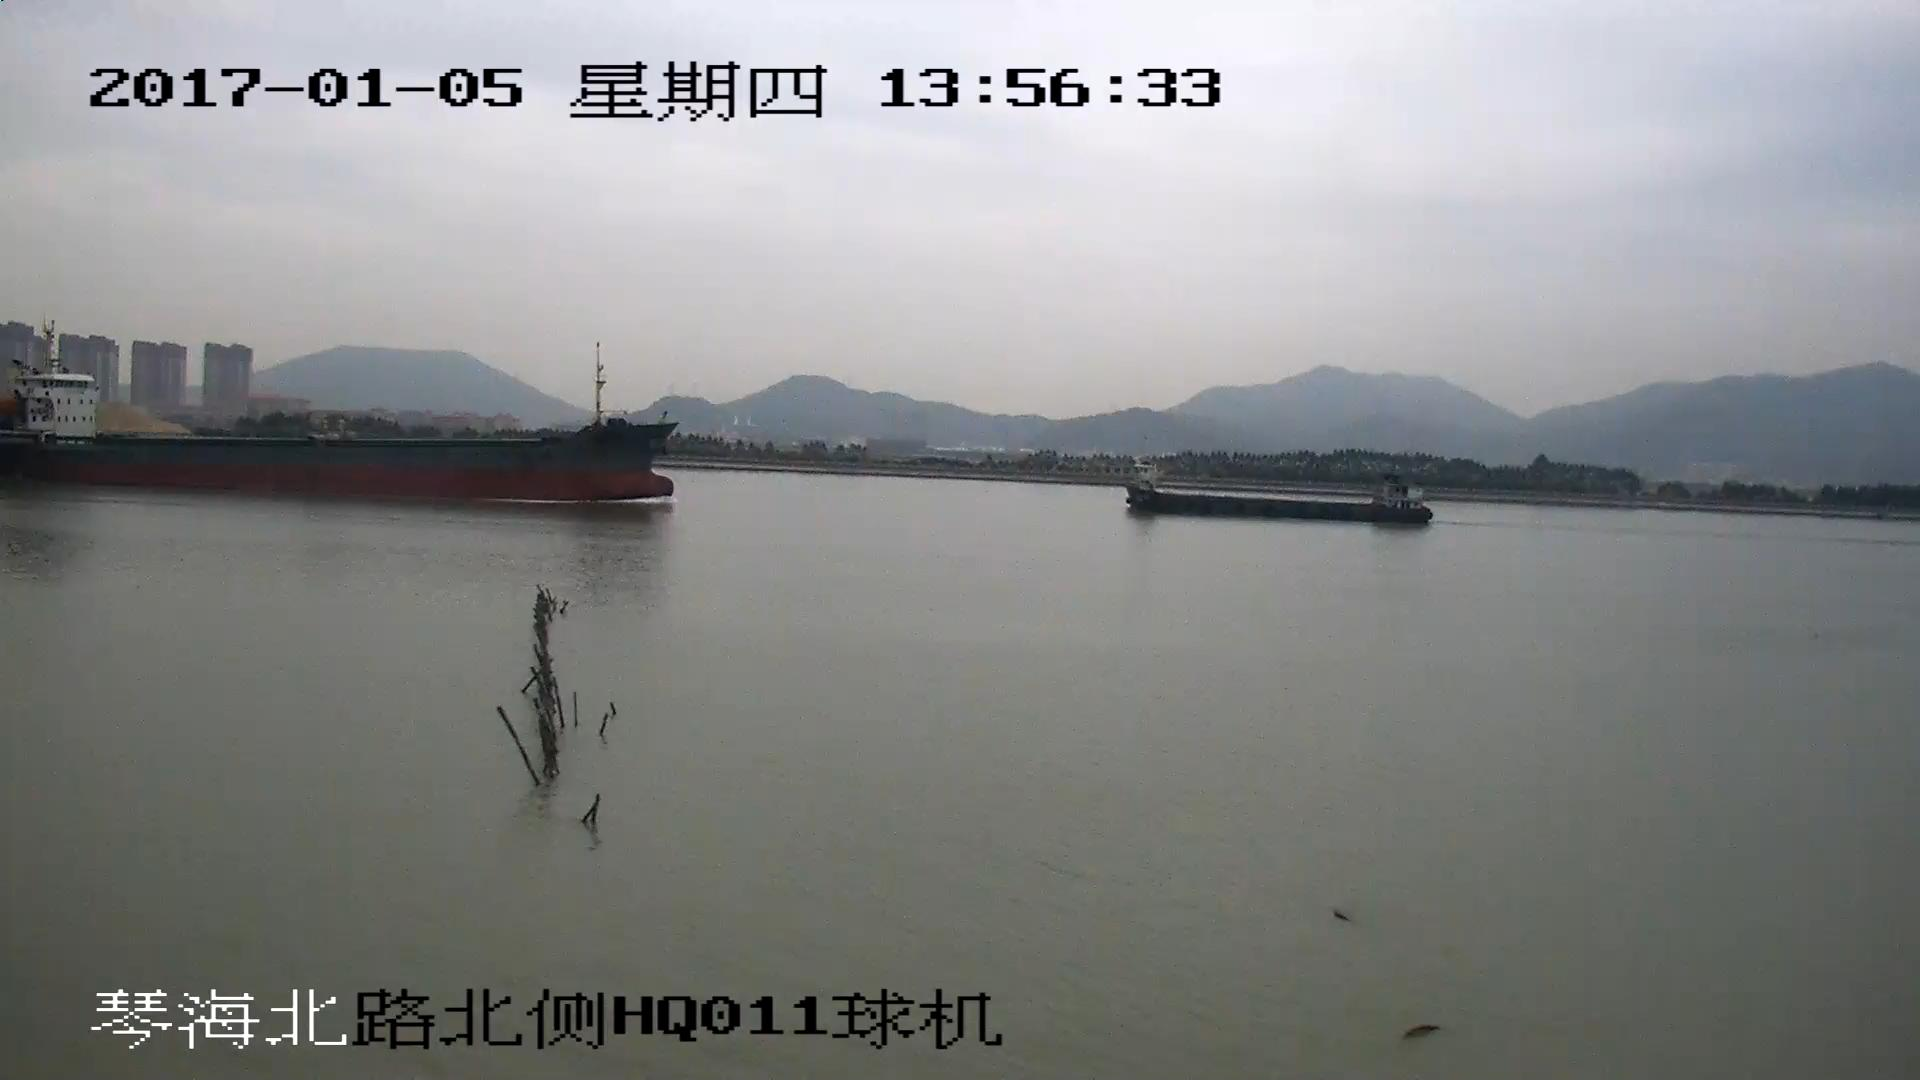general cargo ship: (1, 313, 670, 504), (1121, 457, 1427, 528)
